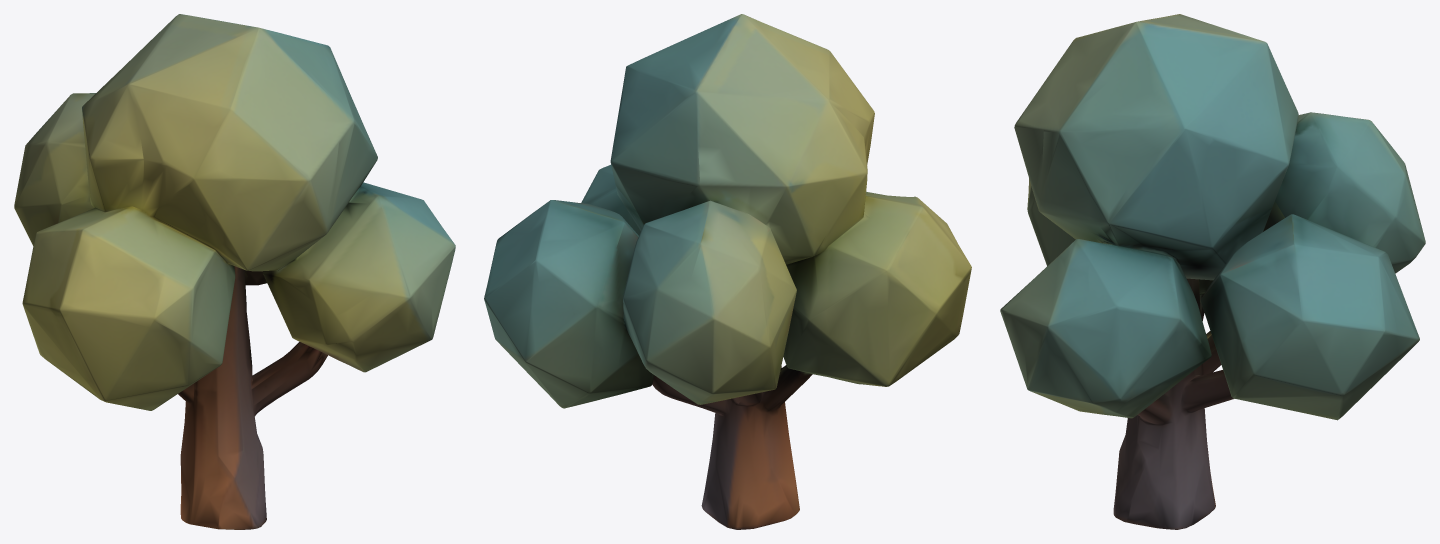
Rendered from tree4.fbx.
3 renders of one model, left to right at view 1: azimuth 30°, elevation 25°; view 2: azimuth 150°, elevation 25°; view 3: azimuth 270°, elevation 25°, orthographic. The views are drawn at different scales.
Parts seen in each view (by area): view 1: tree4; view 2: tree4; view 3: tree4.
Part boxes in pixels (left/top/right/bottom): tree4: left=14, top=14, right=455, bottom=529; tree4: left=484, top=14, right=971, bottom=529; tree4: left=1000, top=14, right=1425, bottom=529.
Size of the model in its own units: 38.96 by 47.49 by 36.45.
Materials: 1 (1 with a texture image).
